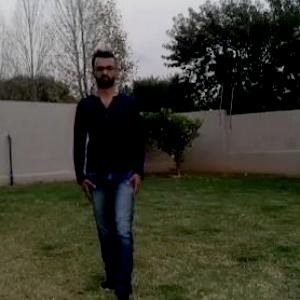follow: (86, 61, 145, 292)
